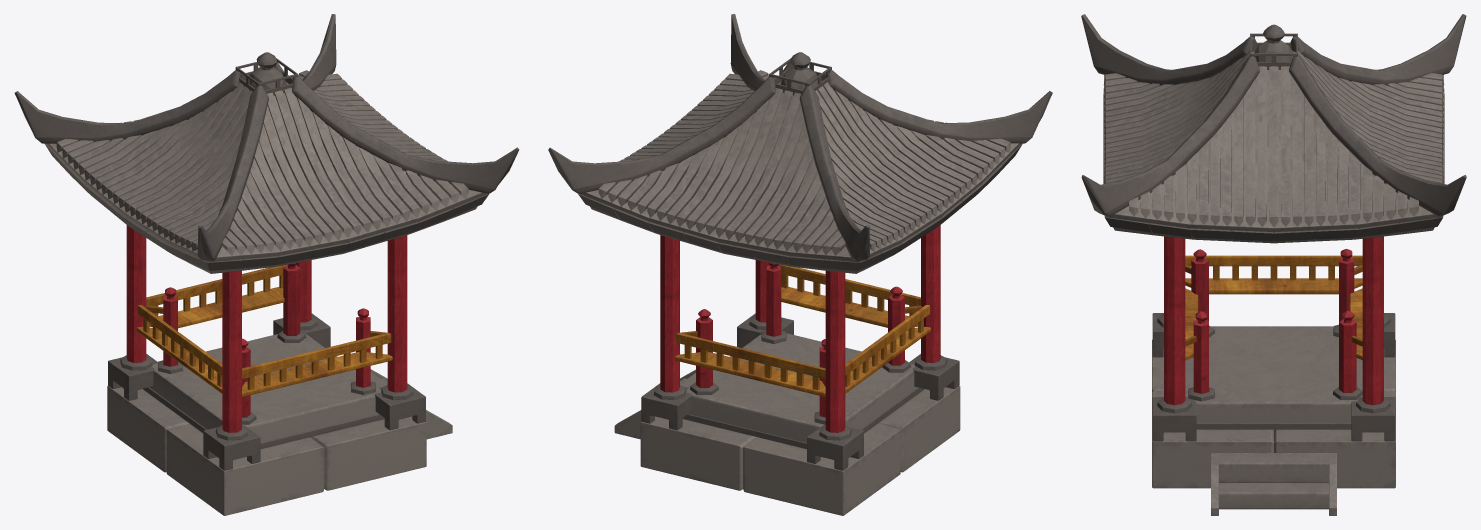
File: pavilion_11.fbx
3 views of the same model, side by side, from view 1: azimuth 30°, elevation 25°; view 2: azimuth 150°, elevation 25°; view 3: azimuth 270°, elevation 25° (orthographic). The views are drawn at different scales.
Visible parts, largest first — view 1: liangting_11; view 2: liangting_11; view 3: liangting_11.
Part boxes in pixels (<box>): liangting_11: <box>14,14,519,515</box>; liangting_11: <box>548,14,1052,515</box>; liangting_11: <box>1081,14,1466,515</box>.
Bounding box in the file's own units: 64.74 × 76.25 × 64.74.
